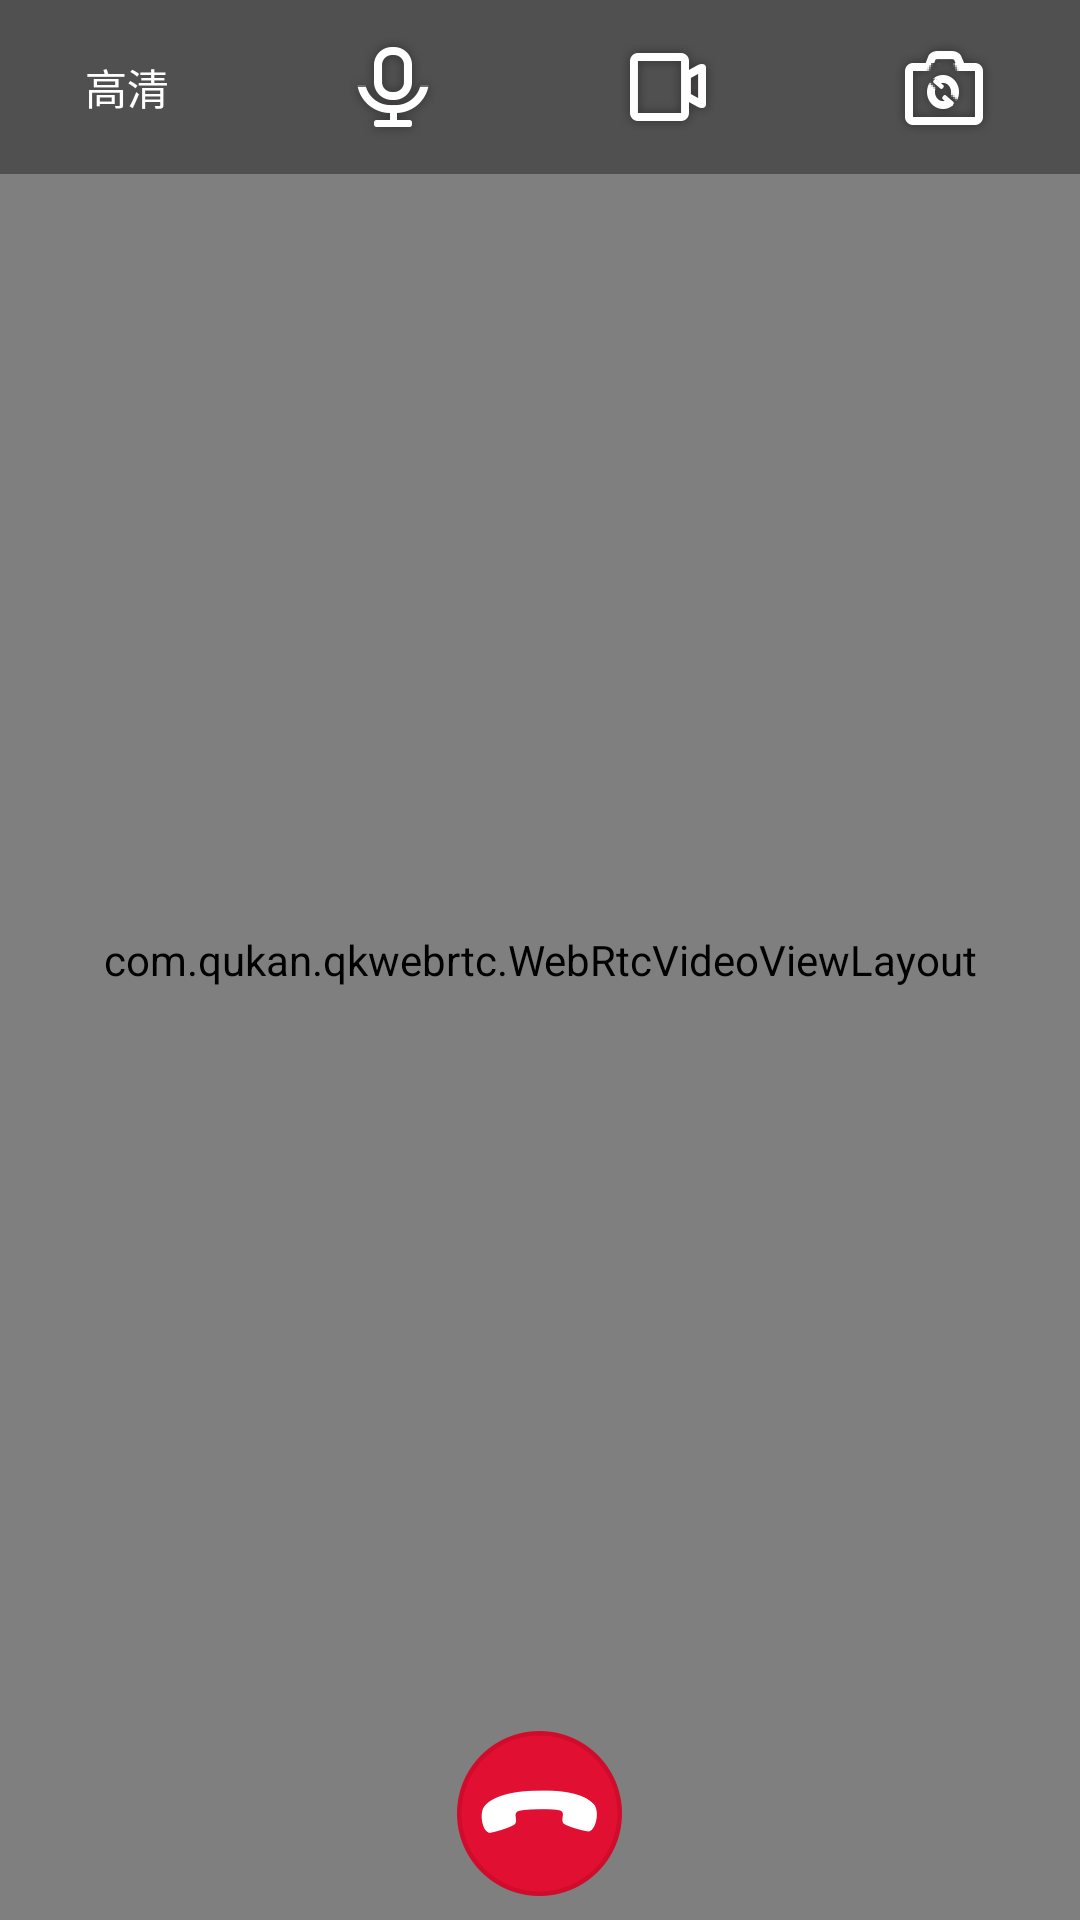

Where to tap for icons on this 1080 x 1920 app screen, as (x=x, y=y):
call off: (x=539, y=1813)
camera: (x=668, y=87)
switch camera: (x=944, y=88)
voic: (x=393, y=87)
